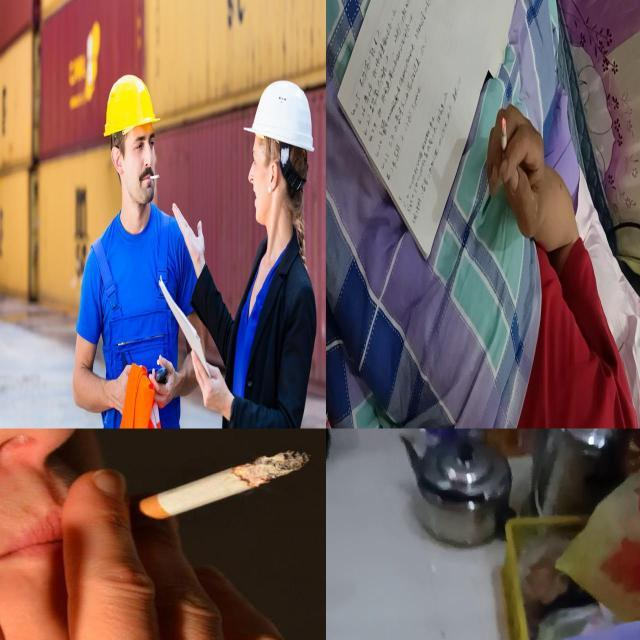smoking: (123, 450, 312, 528), (501, 117, 508, 173), (148, 176, 160, 180)
